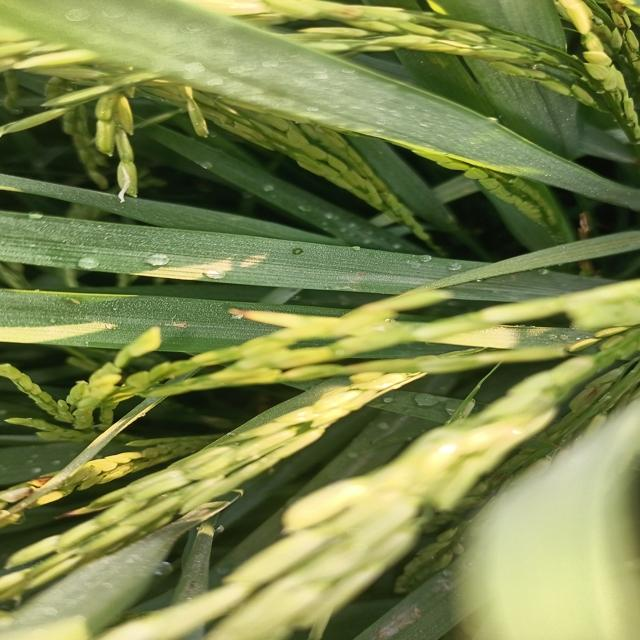insects: (287, 243, 310, 260)
